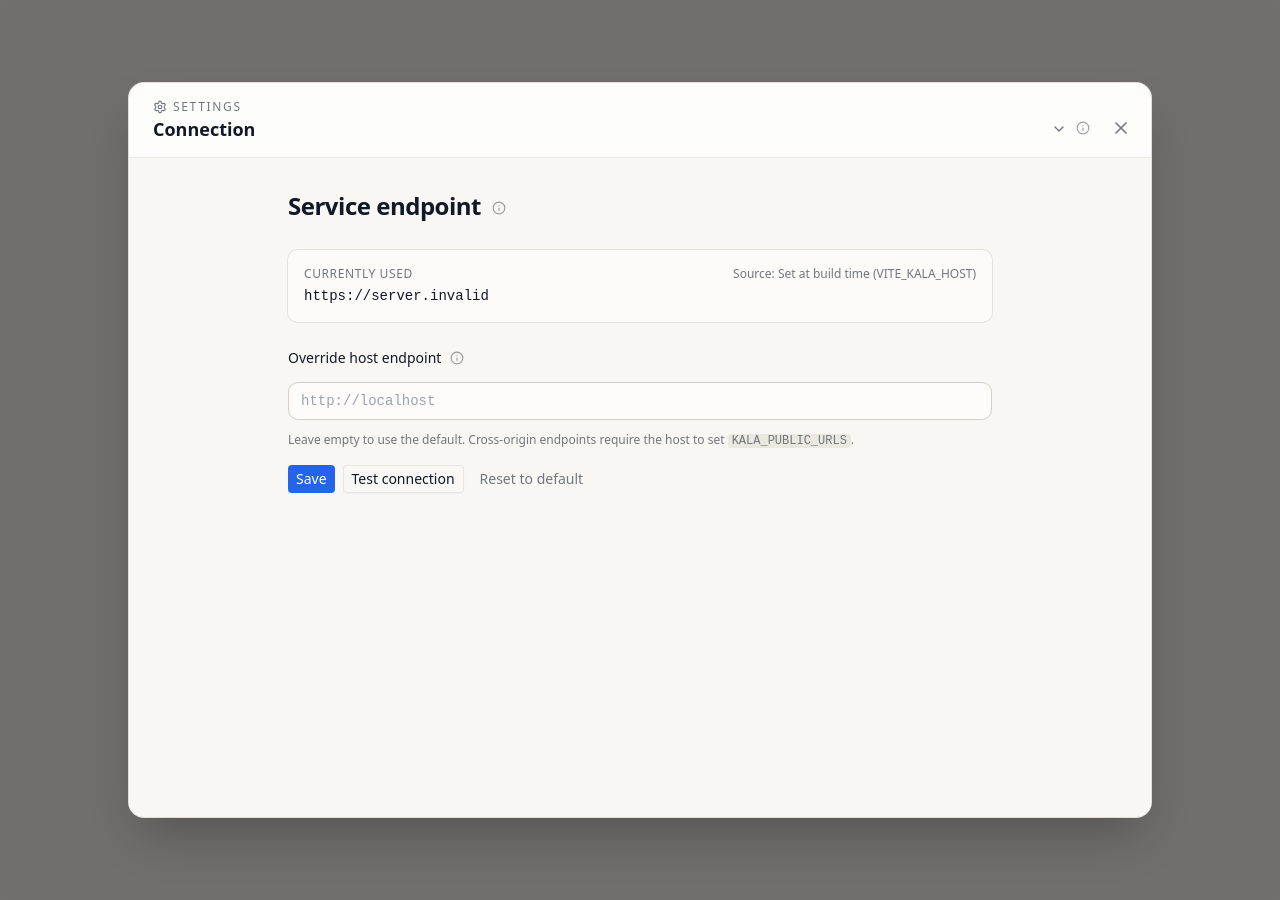
SettingsDialog › executes connection test, save, failure, and reset states
Expected: the heading "Service endpoint" is shown, [288,189,511,222]
Type "http://example.test:4000" into the field with test id "settings-connection-endpoint" at point(640, 401), box [288,382,992,420]
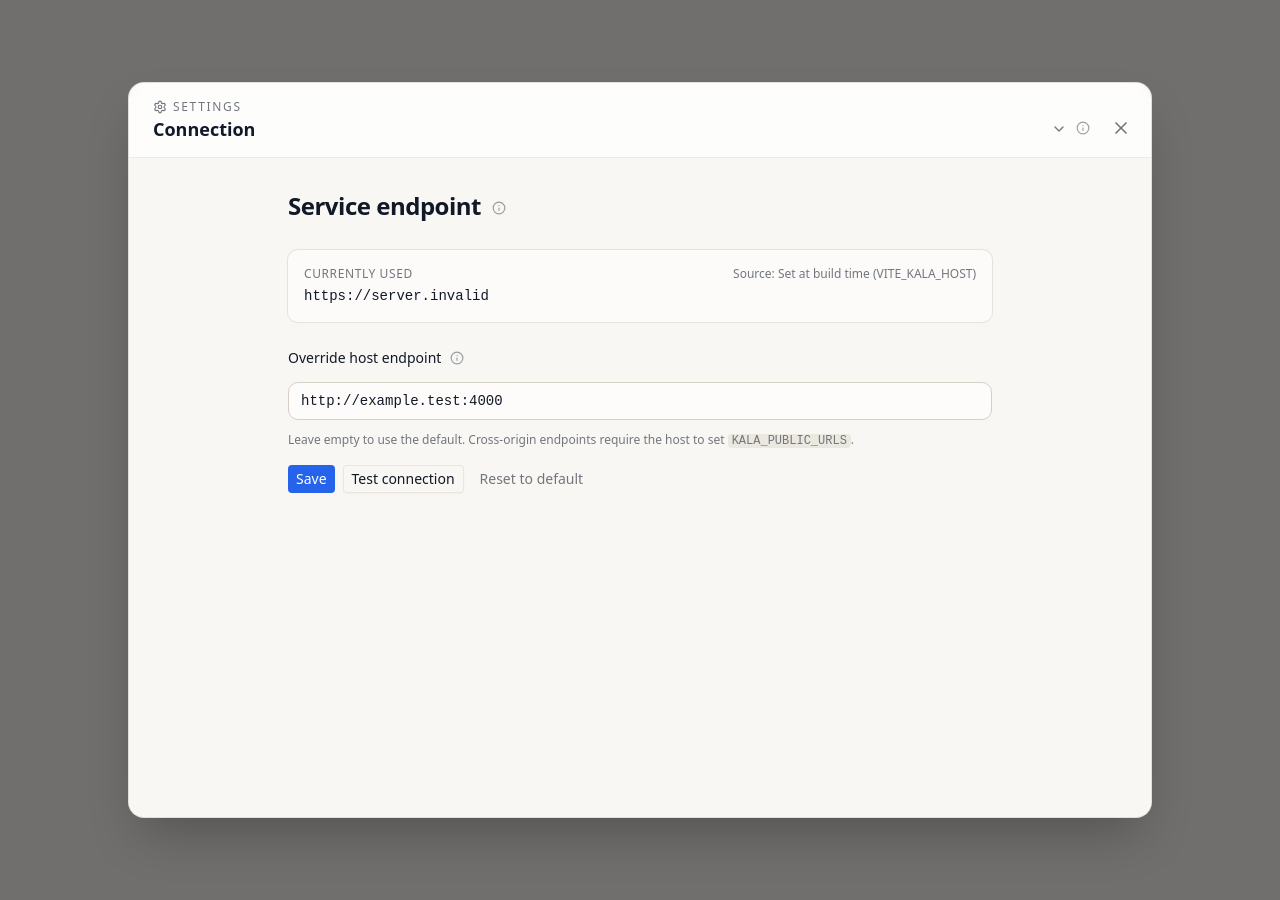
Click the button with test id "settings-connection-test" at point(403, 479), box [343,465,464,493]
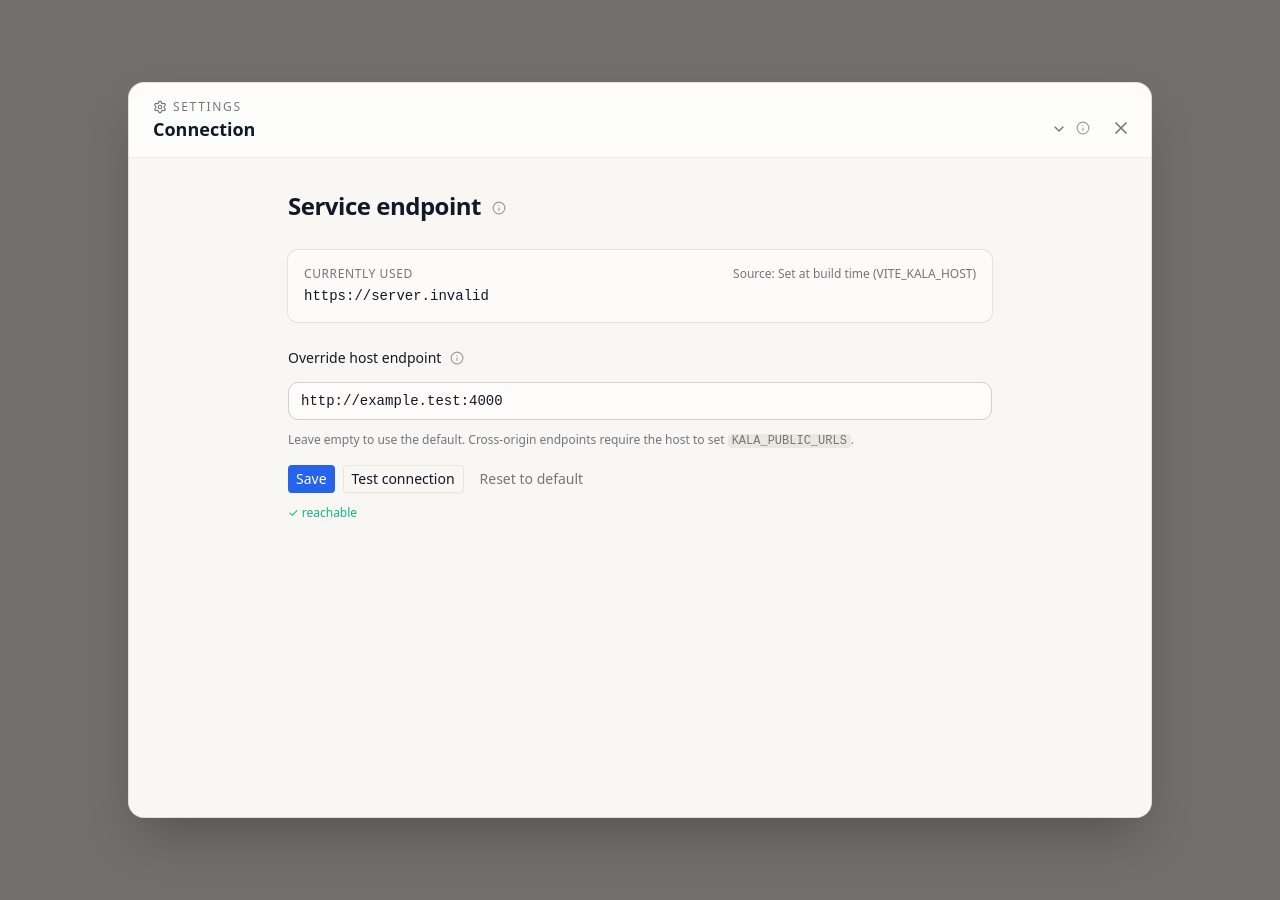
Now the text with test id "settings-connection-result" shows "reachable", box [302,504,357,521]
Click the button with test id "settings-connection-save" at point(311, 479), box [288,465,335,493]
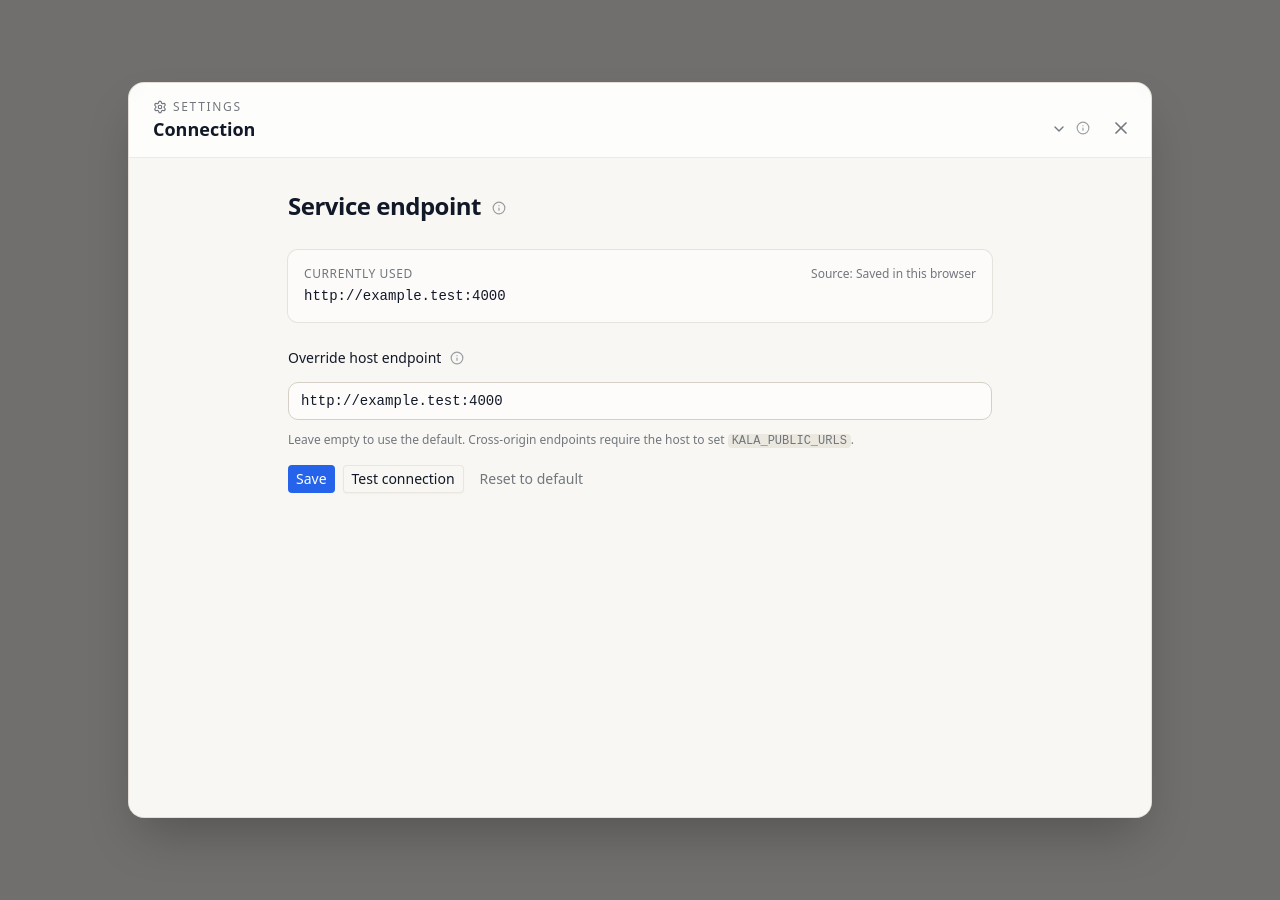
Now the text "http://example.test:4000" is shown, box [304,288,506,304]
Replace the text in the field with test id "settings-connection-endpoint" with "http://broken.test:4000" at point(640, 401), box [288,382,992,420]
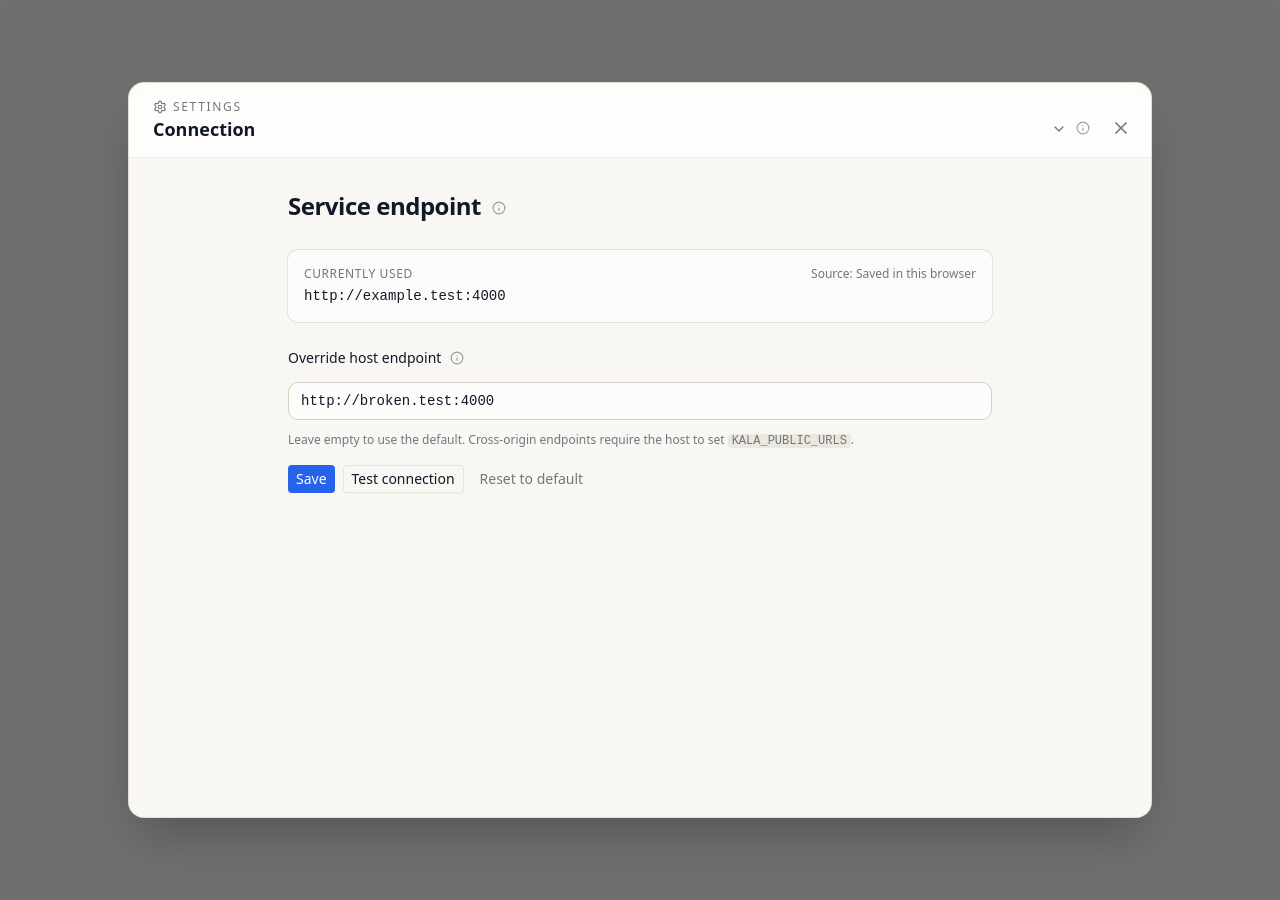
Click the button with test id "settings-connection-test" at point(403, 479), box [343,465,464,493]
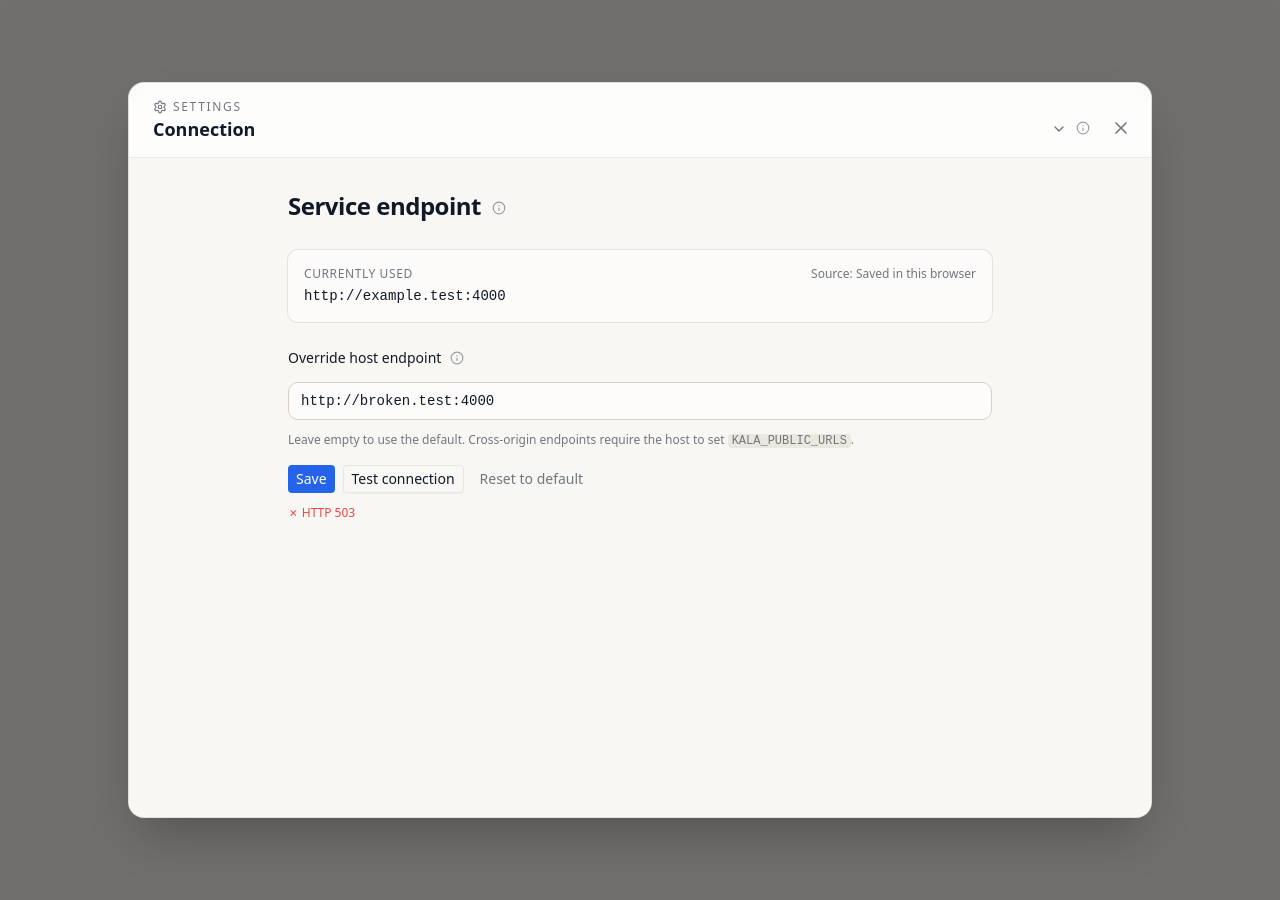
Now the message shows "HTTP 503", box [302,504,355,521]
Click the button with test id "settings-connection-reset" at point(531, 479), box [472,465,591,493]
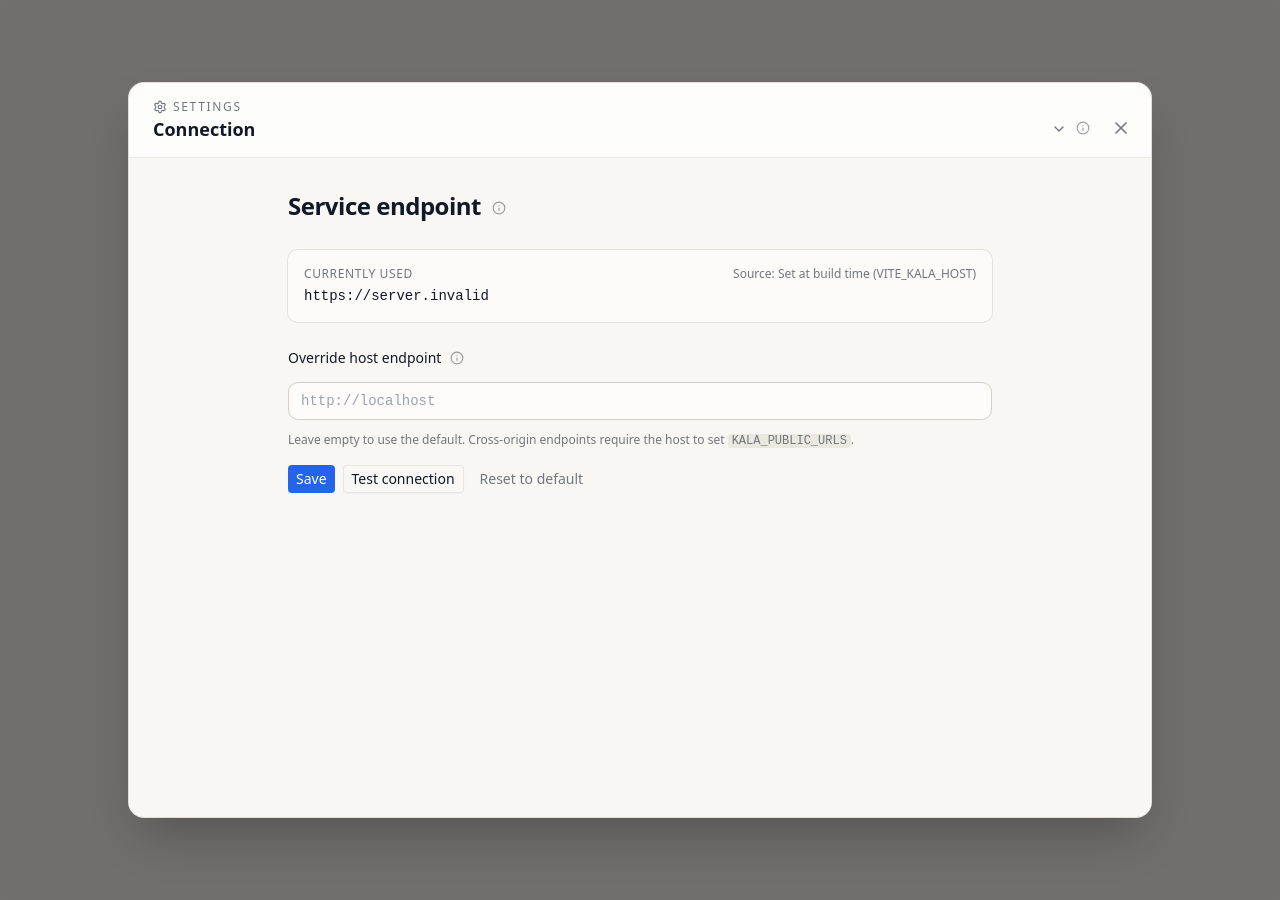
Now the field with test id "settings-connection-endpoint" is empty, box [288,382,992,420]
